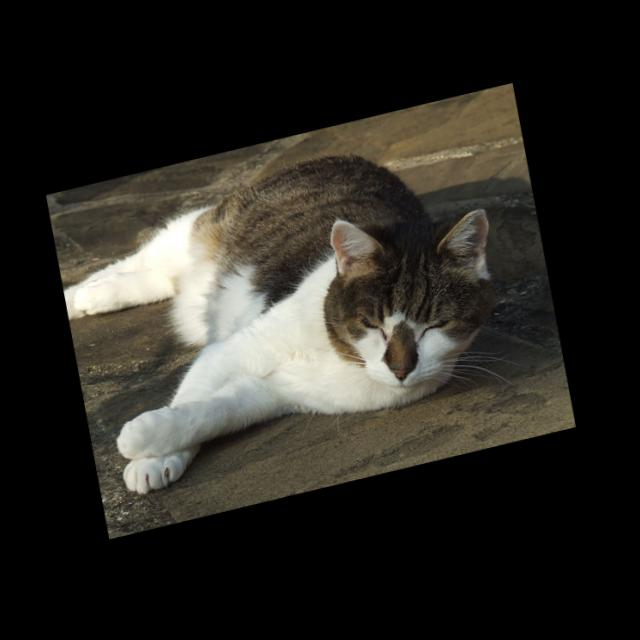animals: (328, 189, 515, 392)
